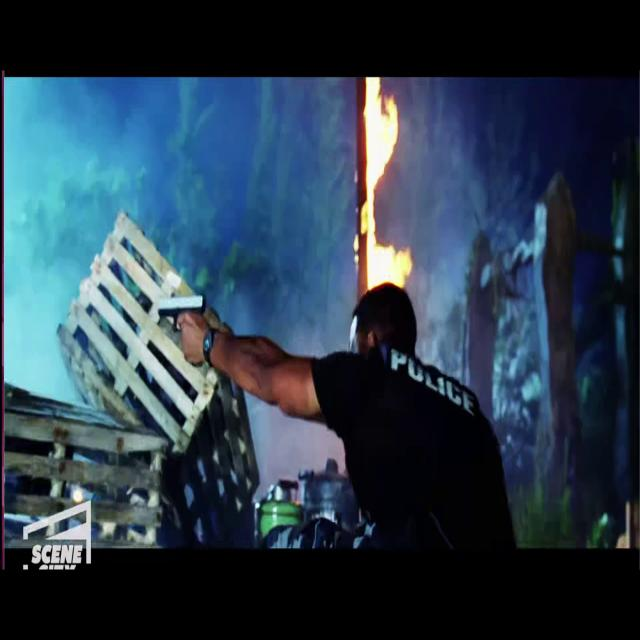weapons: (148, 276, 212, 383)
